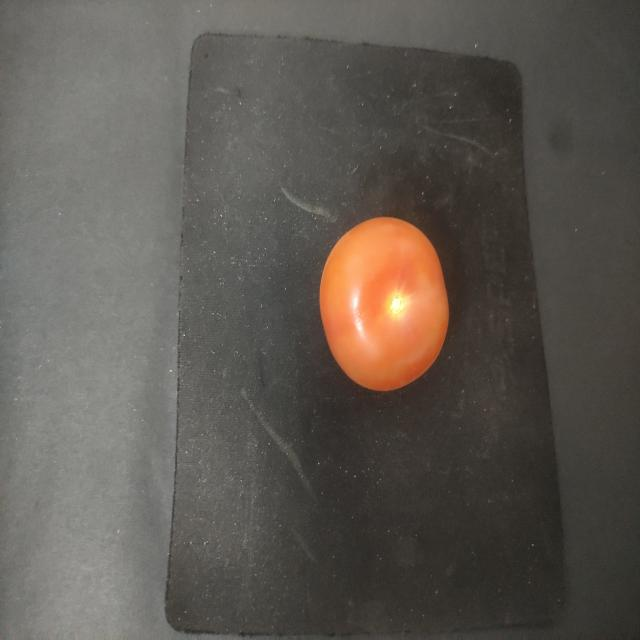sari: (308, 199, 460, 402)
